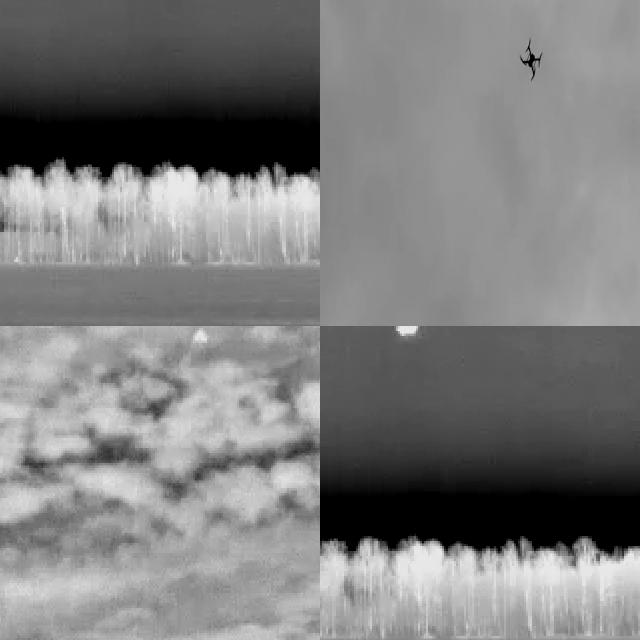0: (179, 326, 219, 353)
1: (383, 326, 427, 348)
drone: (517, 38, 544, 83)
